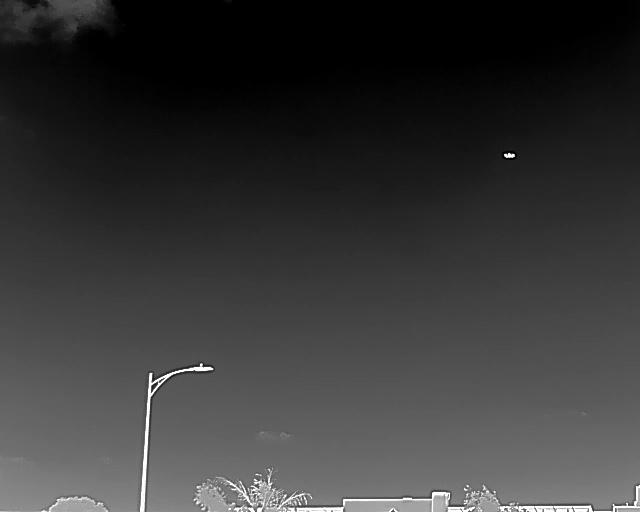fpv-drone: (502, 152, 516, 159)
